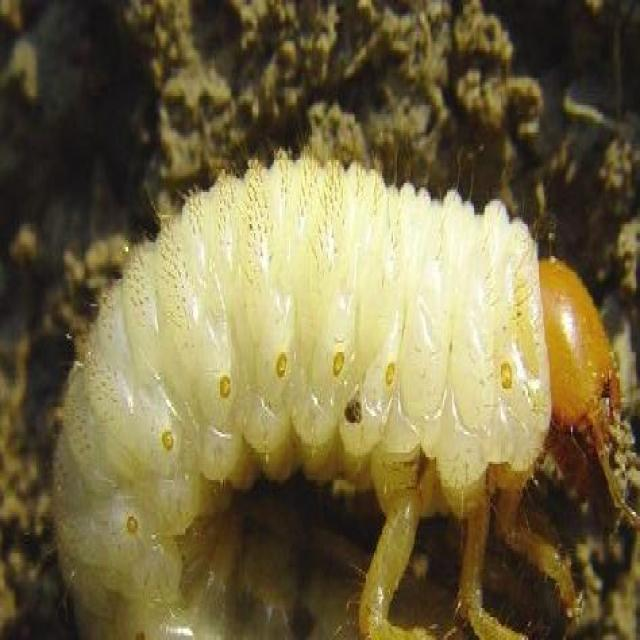grub: (42, 161, 616, 640)
